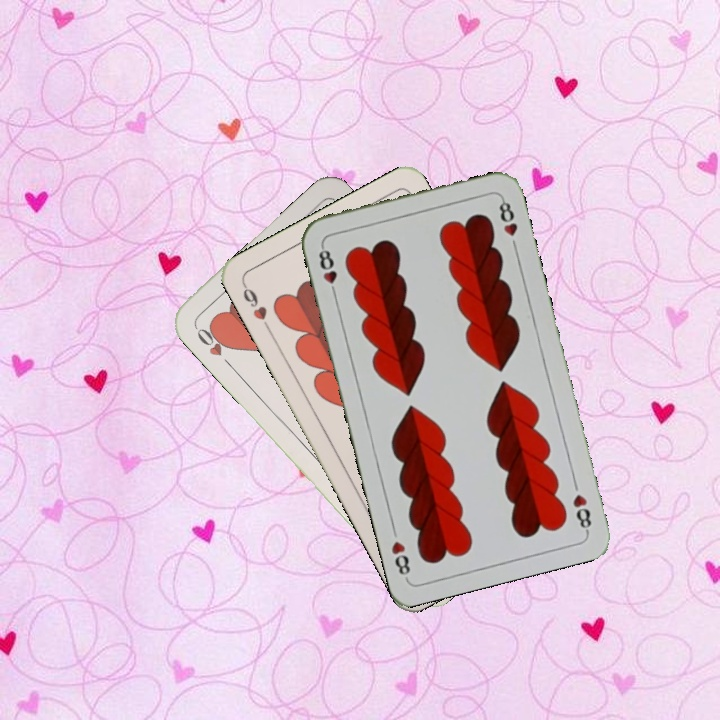H8: (314, 241, 340, 300), (568, 490, 594, 535)
H9: (238, 279, 273, 333)
HO: (191, 321, 236, 371)
